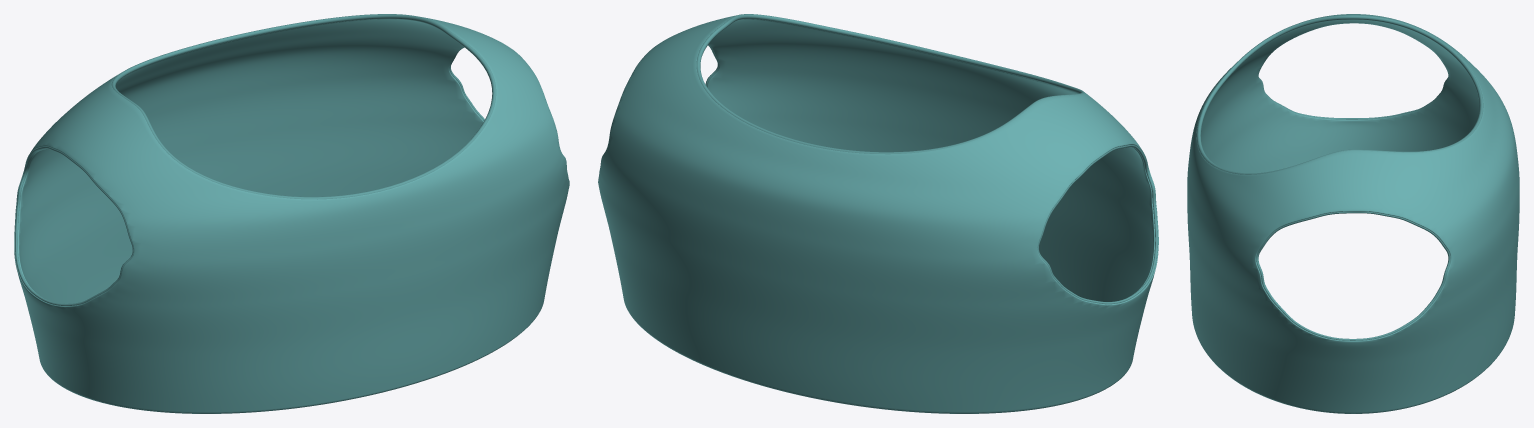
File: Masculine-tank-top.glb
3 views of the same model, side by side, from view 1: azimuth 30°, elevation 25°; view 2: azimuth 150°, elevation 25°; view 3: azimuth 270°, elevation 25° (orthographic). The views are drawn at different scales.
Parts seen in each view (by area): view 1: Clothing / tank, Neckline / fitted crew export, Tank / armhole binding -1 export, Shirt / seated hem export; view 2: Clothing / tank, Neckline / fitted crew export, Tank / armhole binding -1 export, Shirt / seated hem export; view 3: Clothing / tank, Neckline / fitted crew export, Tank / armhole binding 1 export, Tank / armhole binding -1 export.
Part boxes in pixels (box(x1,y1,x2,y2)): Clothing / tank: box(14, 17, 569, 413); Neckline / fitted crew export: box(111, 14, 496, 199); Tank / armhole binding -1 export: box(15, 146, 133, 305); Shirt / seated hem export: box(66, 340, 511, 413); Clothing / tank: box(598, 15, 1158, 413); Neckline / fitted crew export: box(696, 14, 1084, 154); Tank / armhole binding -1 export: box(1037, 145, 1157, 304); Shirt / seated hem export: box(662, 343, 1105, 413); Clothing / tank: box(1187, 14, 1519, 413); Neckline / fitted crew export: box(1196, 15, 1483, 174); Tank / armhole binding 1 export: box(1256, 211, 1450, 340); Tank / armhole binding -1 export: box(1259, 78, 1447, 119).
Bounding box in the file's own units: 0.7132 × 0.3438 × 0.4506.
